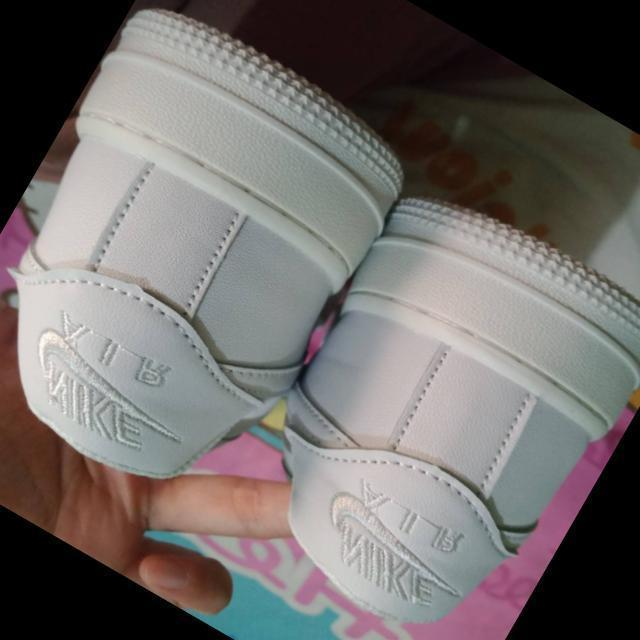nike fake air force: (0, 0, 434, 530), (200, 162, 640, 640)
